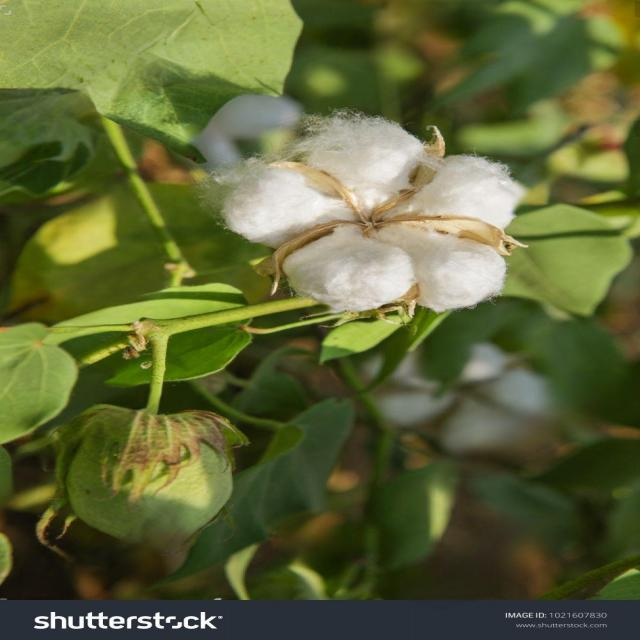Early_blight: (202, 103, 534, 316)
